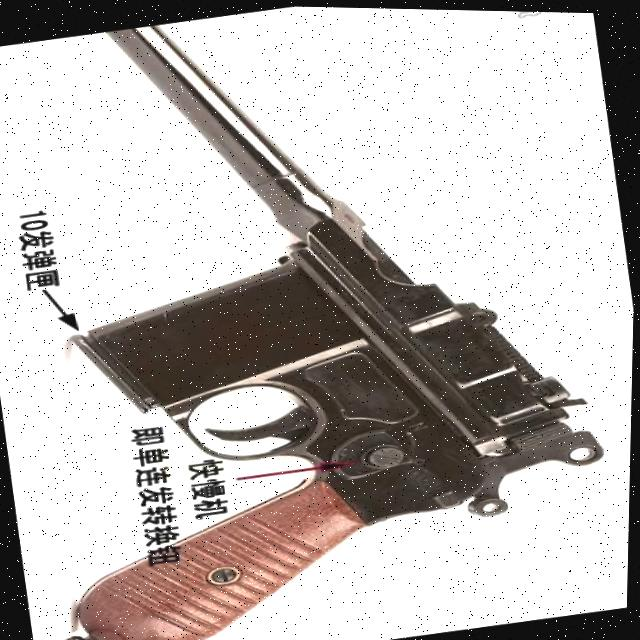pistol: (0, 0, 631, 640)
